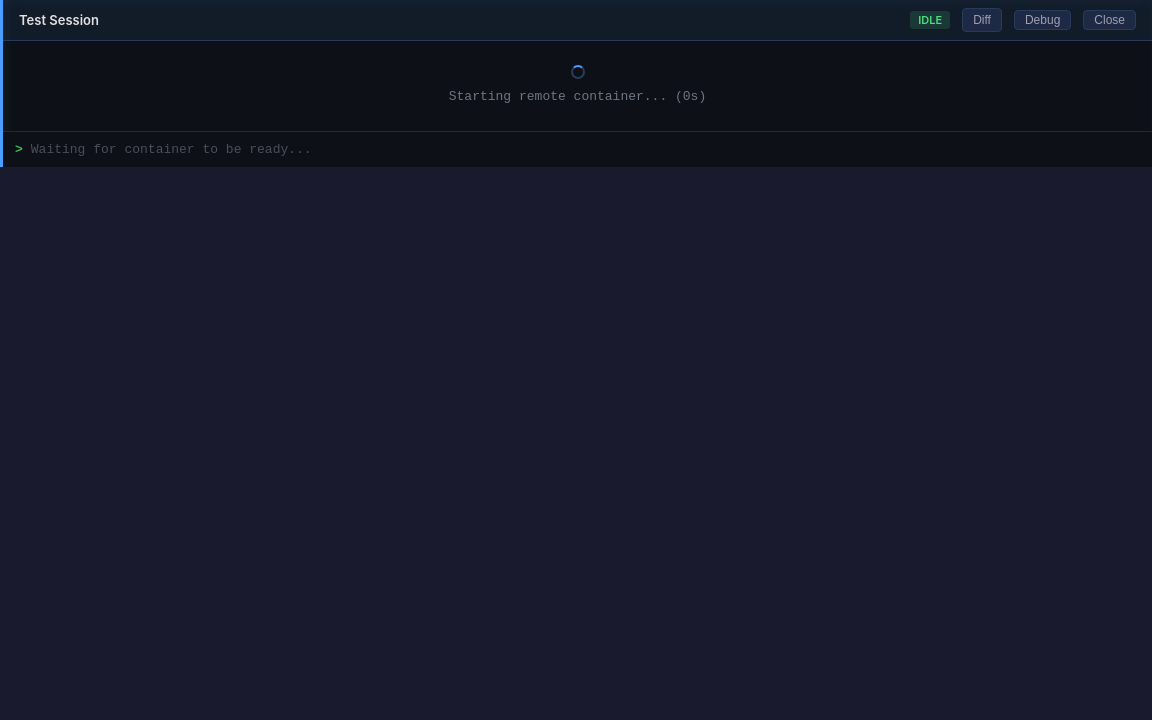
Test: MessageStream › shows DiffViewer when Diff button is clicked
Click the button titled "View branch diff" at (982, 20), box 962,8 -> 1002,32
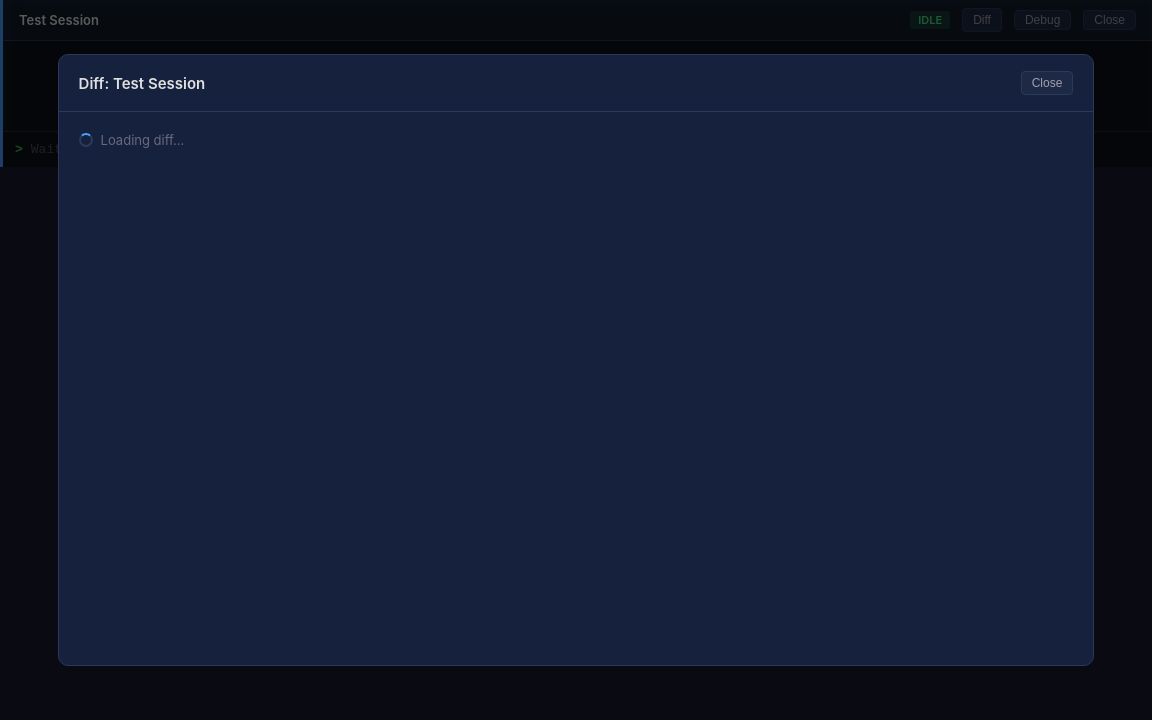
Check: the text "Loading diff..." is shown, box 79,132 -> 184,148
